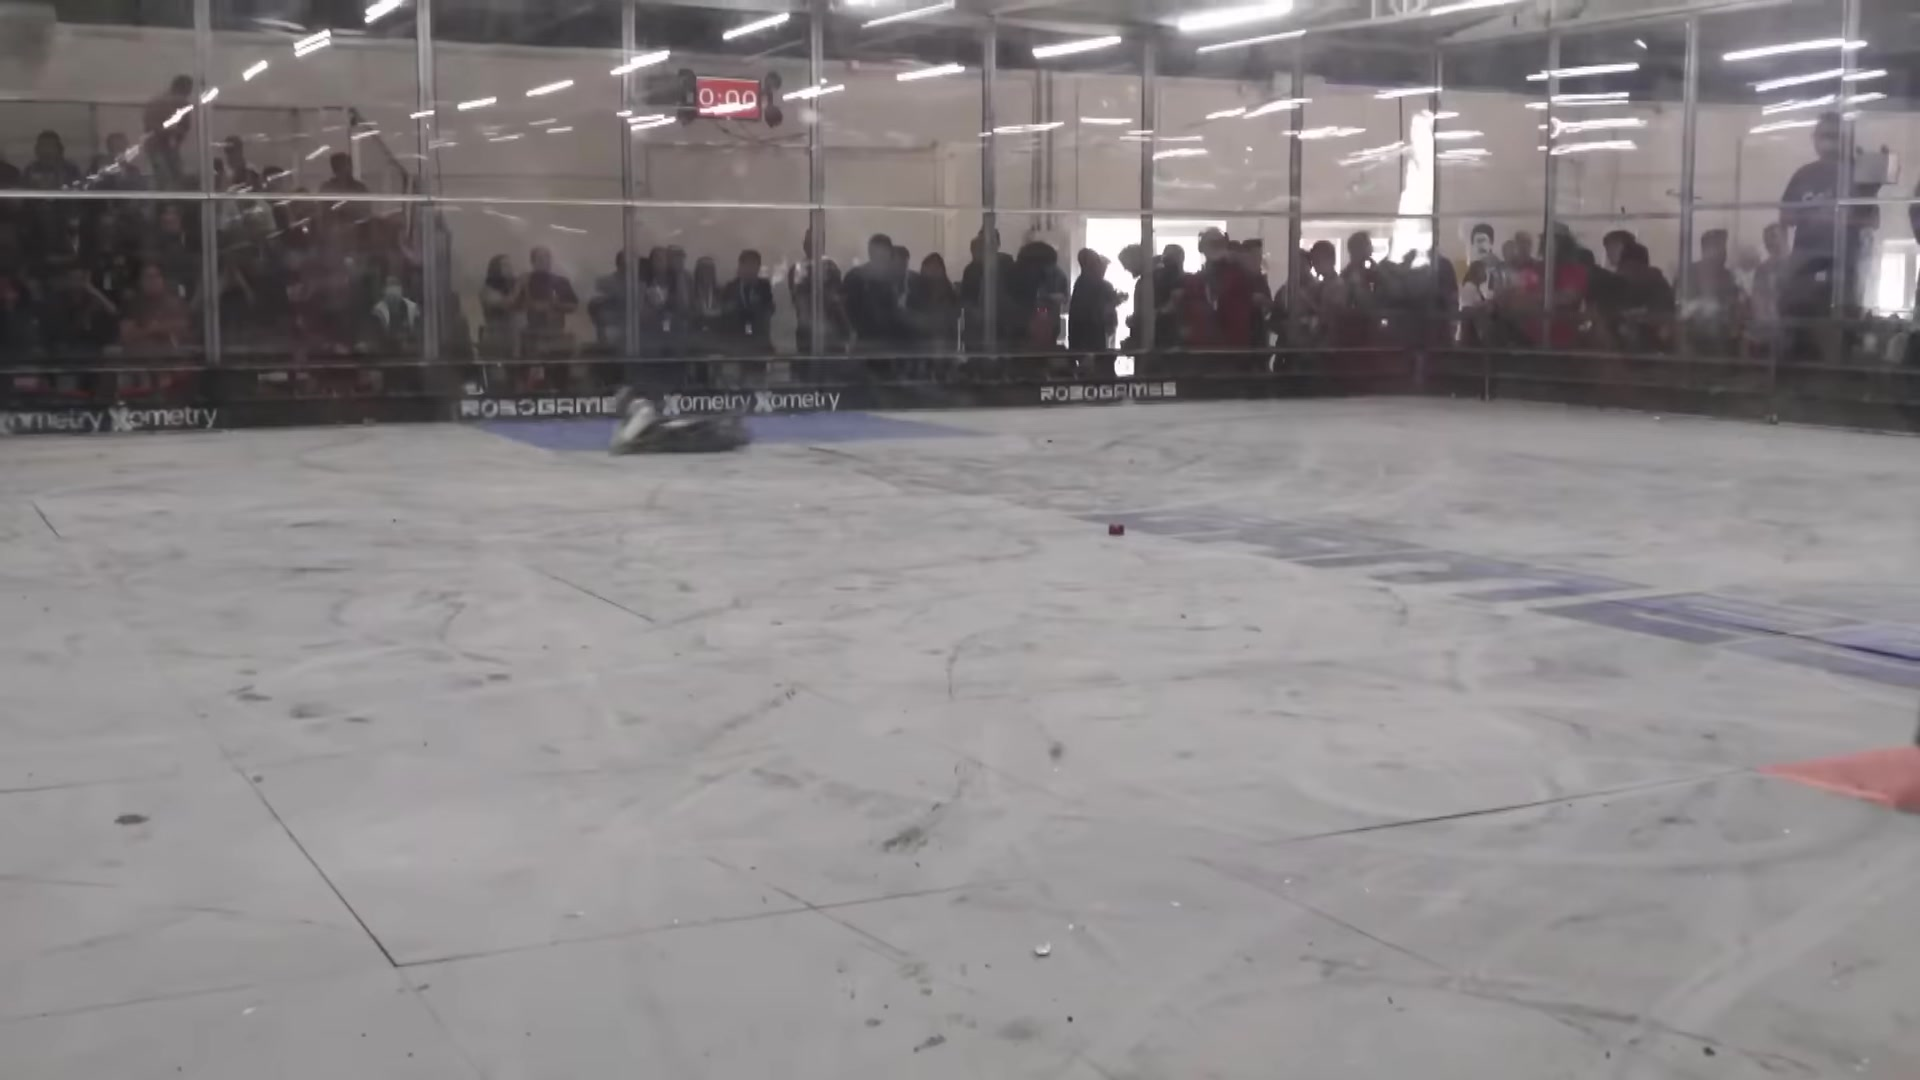combatbot: (609, 386, 748, 450)
debris: (1108, 525, 1126, 539)
